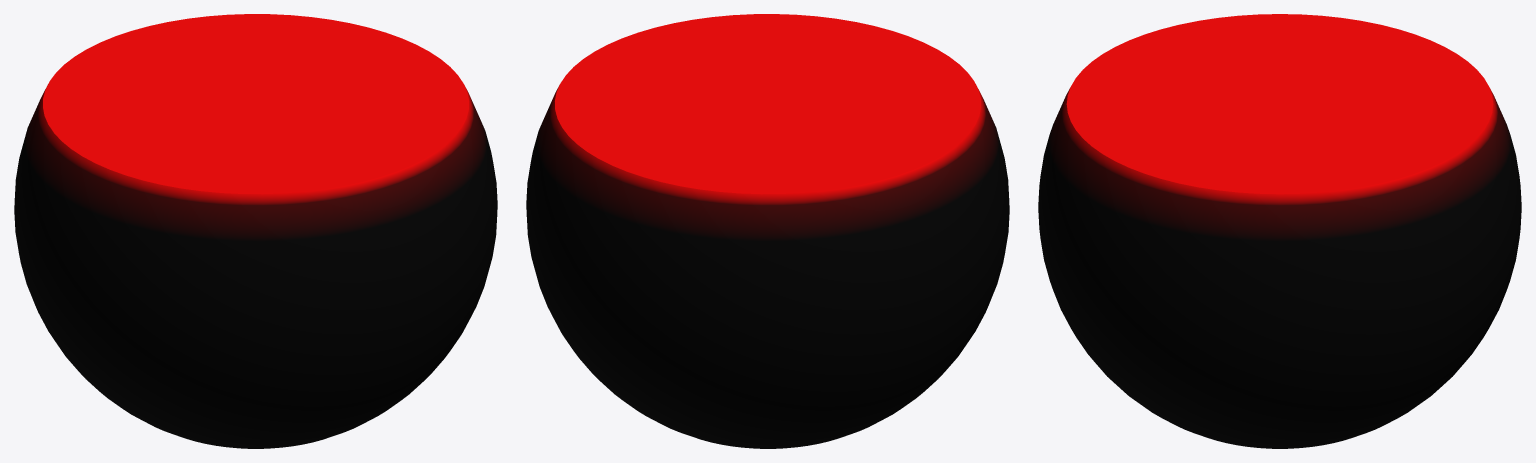
File: WaterFishbowl.fbx
3 renders of one model, left to right at view 1: azimuth 30°, elevation 25°; view 2: azimuth 150°, elevation 25°; view 3: azimuth 270°, elevation 25°, orthographic.
Visible parts, largest first — view 1: WaterFishbowl; view 2: WaterFishbowl; view 3: WaterFishbowl.
Part boxes in pixels (x1,y1,x2,y2): WaterFishbowl: (14, 14, 497, 448); WaterFishbowl: (526, 14, 1009, 448); WaterFishbowl: (1038, 14, 1521, 448).
Size of the model in its own units: 28.05 by 19.57 by 28.05.
